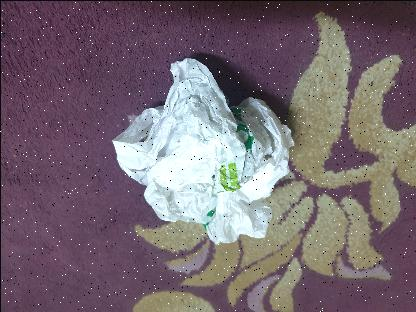Others: (104, 51, 300, 248)
